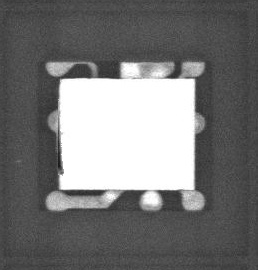DIE_BROKEN: (55, 124, 66, 178)
